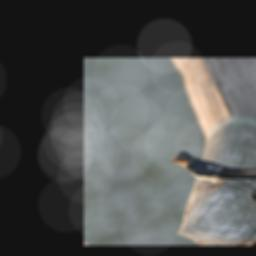Swallow: (163, 120, 256, 208)
